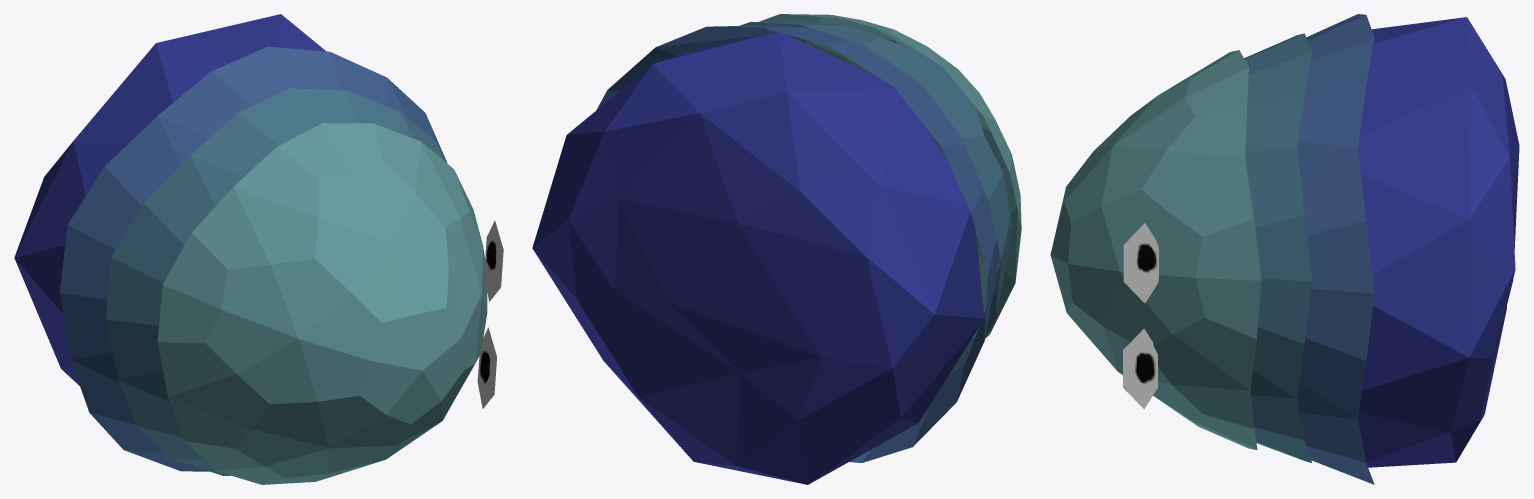
Rendered from Blabbie.gltf.
3 views of the same model, side by side, from view 1: azimuth 30°, elevation 25°; view 2: azimuth 150°, elevation 25°; view 3: azimuth 270°, elevation 25° (orthographic). The views are drawn at different scales.
Visible parts, largest first — view 1: Icosphere.003; view 2: Icosphere.003; view 3: Icosphere.003.
Part boxes in pixels (box(x1,y1,x2,y2)): Icosphere.003: box(14, 14, 503, 484); Icosphere.003: box(532, 14, 1021, 484); Icosphere.003: box(1050, 14, 1519, 484).
Bounding box in the file's own units: 0.9455 × 0.9459 × 0.9379.
Materials: 1 (1 with a texture image).
